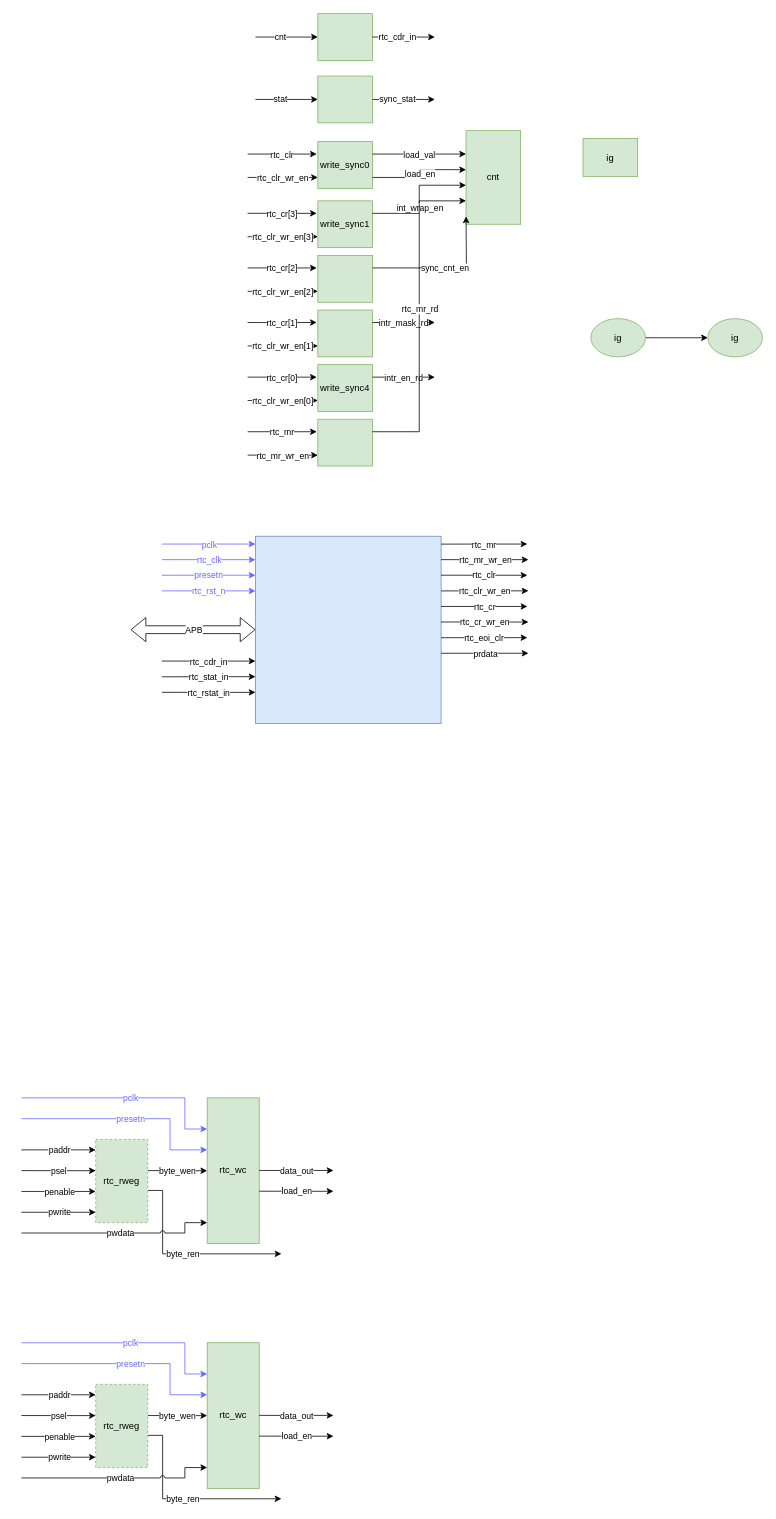
The diagram is 776 pixels wide and 1519 high, and some of its shapes have lost their labels. The centre of each missing label's shape, as x and y in pixels:
apbif: (x=348, y=629)
read_sync0: (x=344, y=36)
read_sync1: (x=344, y=99)
write_sync2: (x=344, y=278)
write_sync3: (x=344, y=333)
write_sync5: (x=344, y=442)
